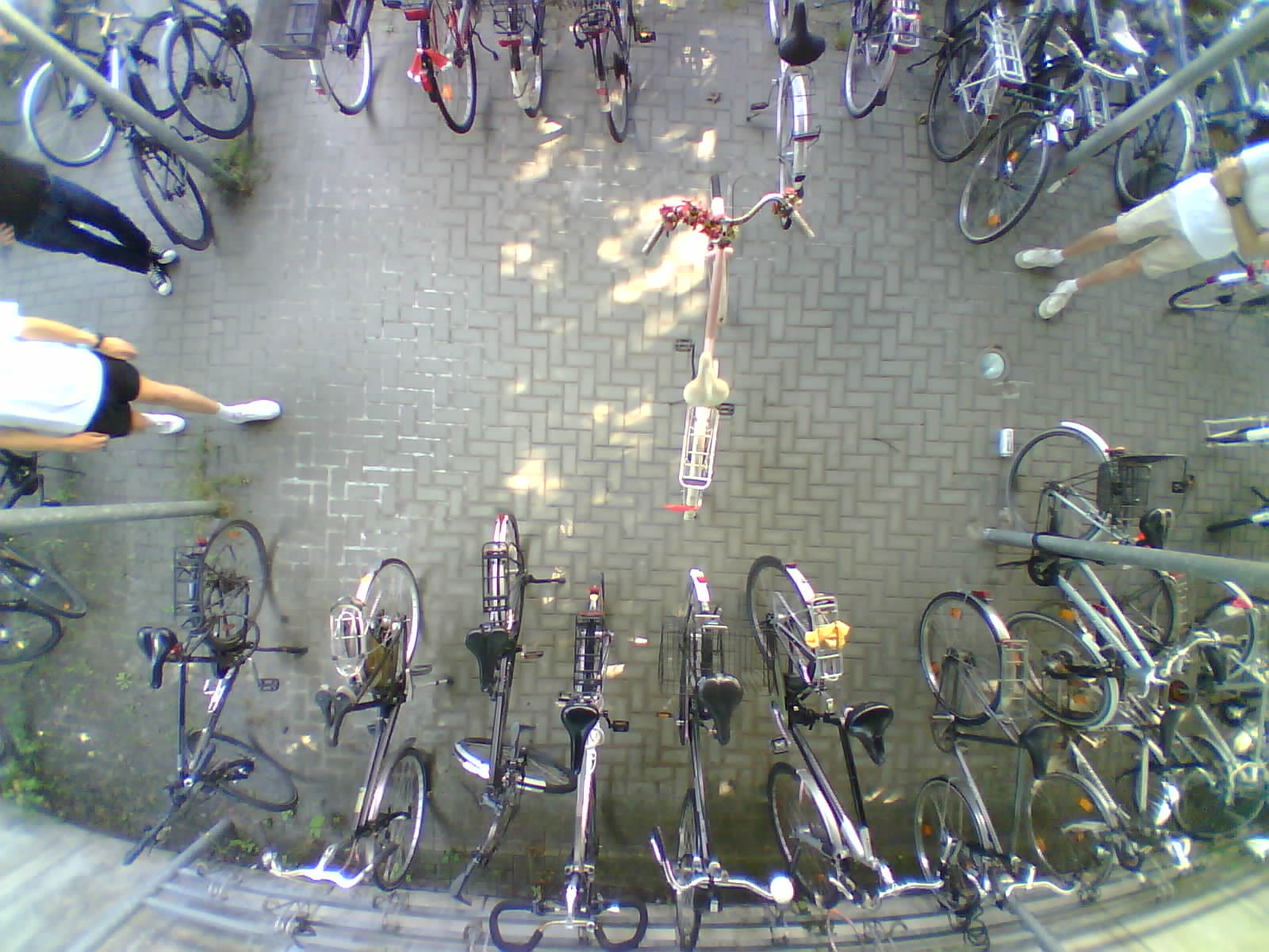bicylce: (999, 409, 1158, 724), (1083, 547, 1256, 832), (756, 553, 885, 897), (646, 172, 768, 524), (165, 514, 284, 839), (1033, 588, 1152, 908), (322, 555, 432, 885), (658, 571, 749, 952), (929, 587, 1015, 914), (87, 3, 193, 262), (470, 513, 543, 886), (555, 572, 622, 947), (977, 0, 1072, 250)
saddle: (775, 0, 828, 72), (698, 670, 746, 748), (844, 699, 893, 766), (1019, 718, 1066, 780), (466, 630, 512, 693), (682, 349, 730, 409), (135, 625, 176, 694), (312, 684, 355, 748), (560, 704, 598, 772), (1106, 11, 1150, 61), (1140, 501, 1179, 556), (1153, 697, 1184, 760), (64, 78, 95, 120), (1204, 638, 1228, 685), (1246, 79, 1269, 119)
